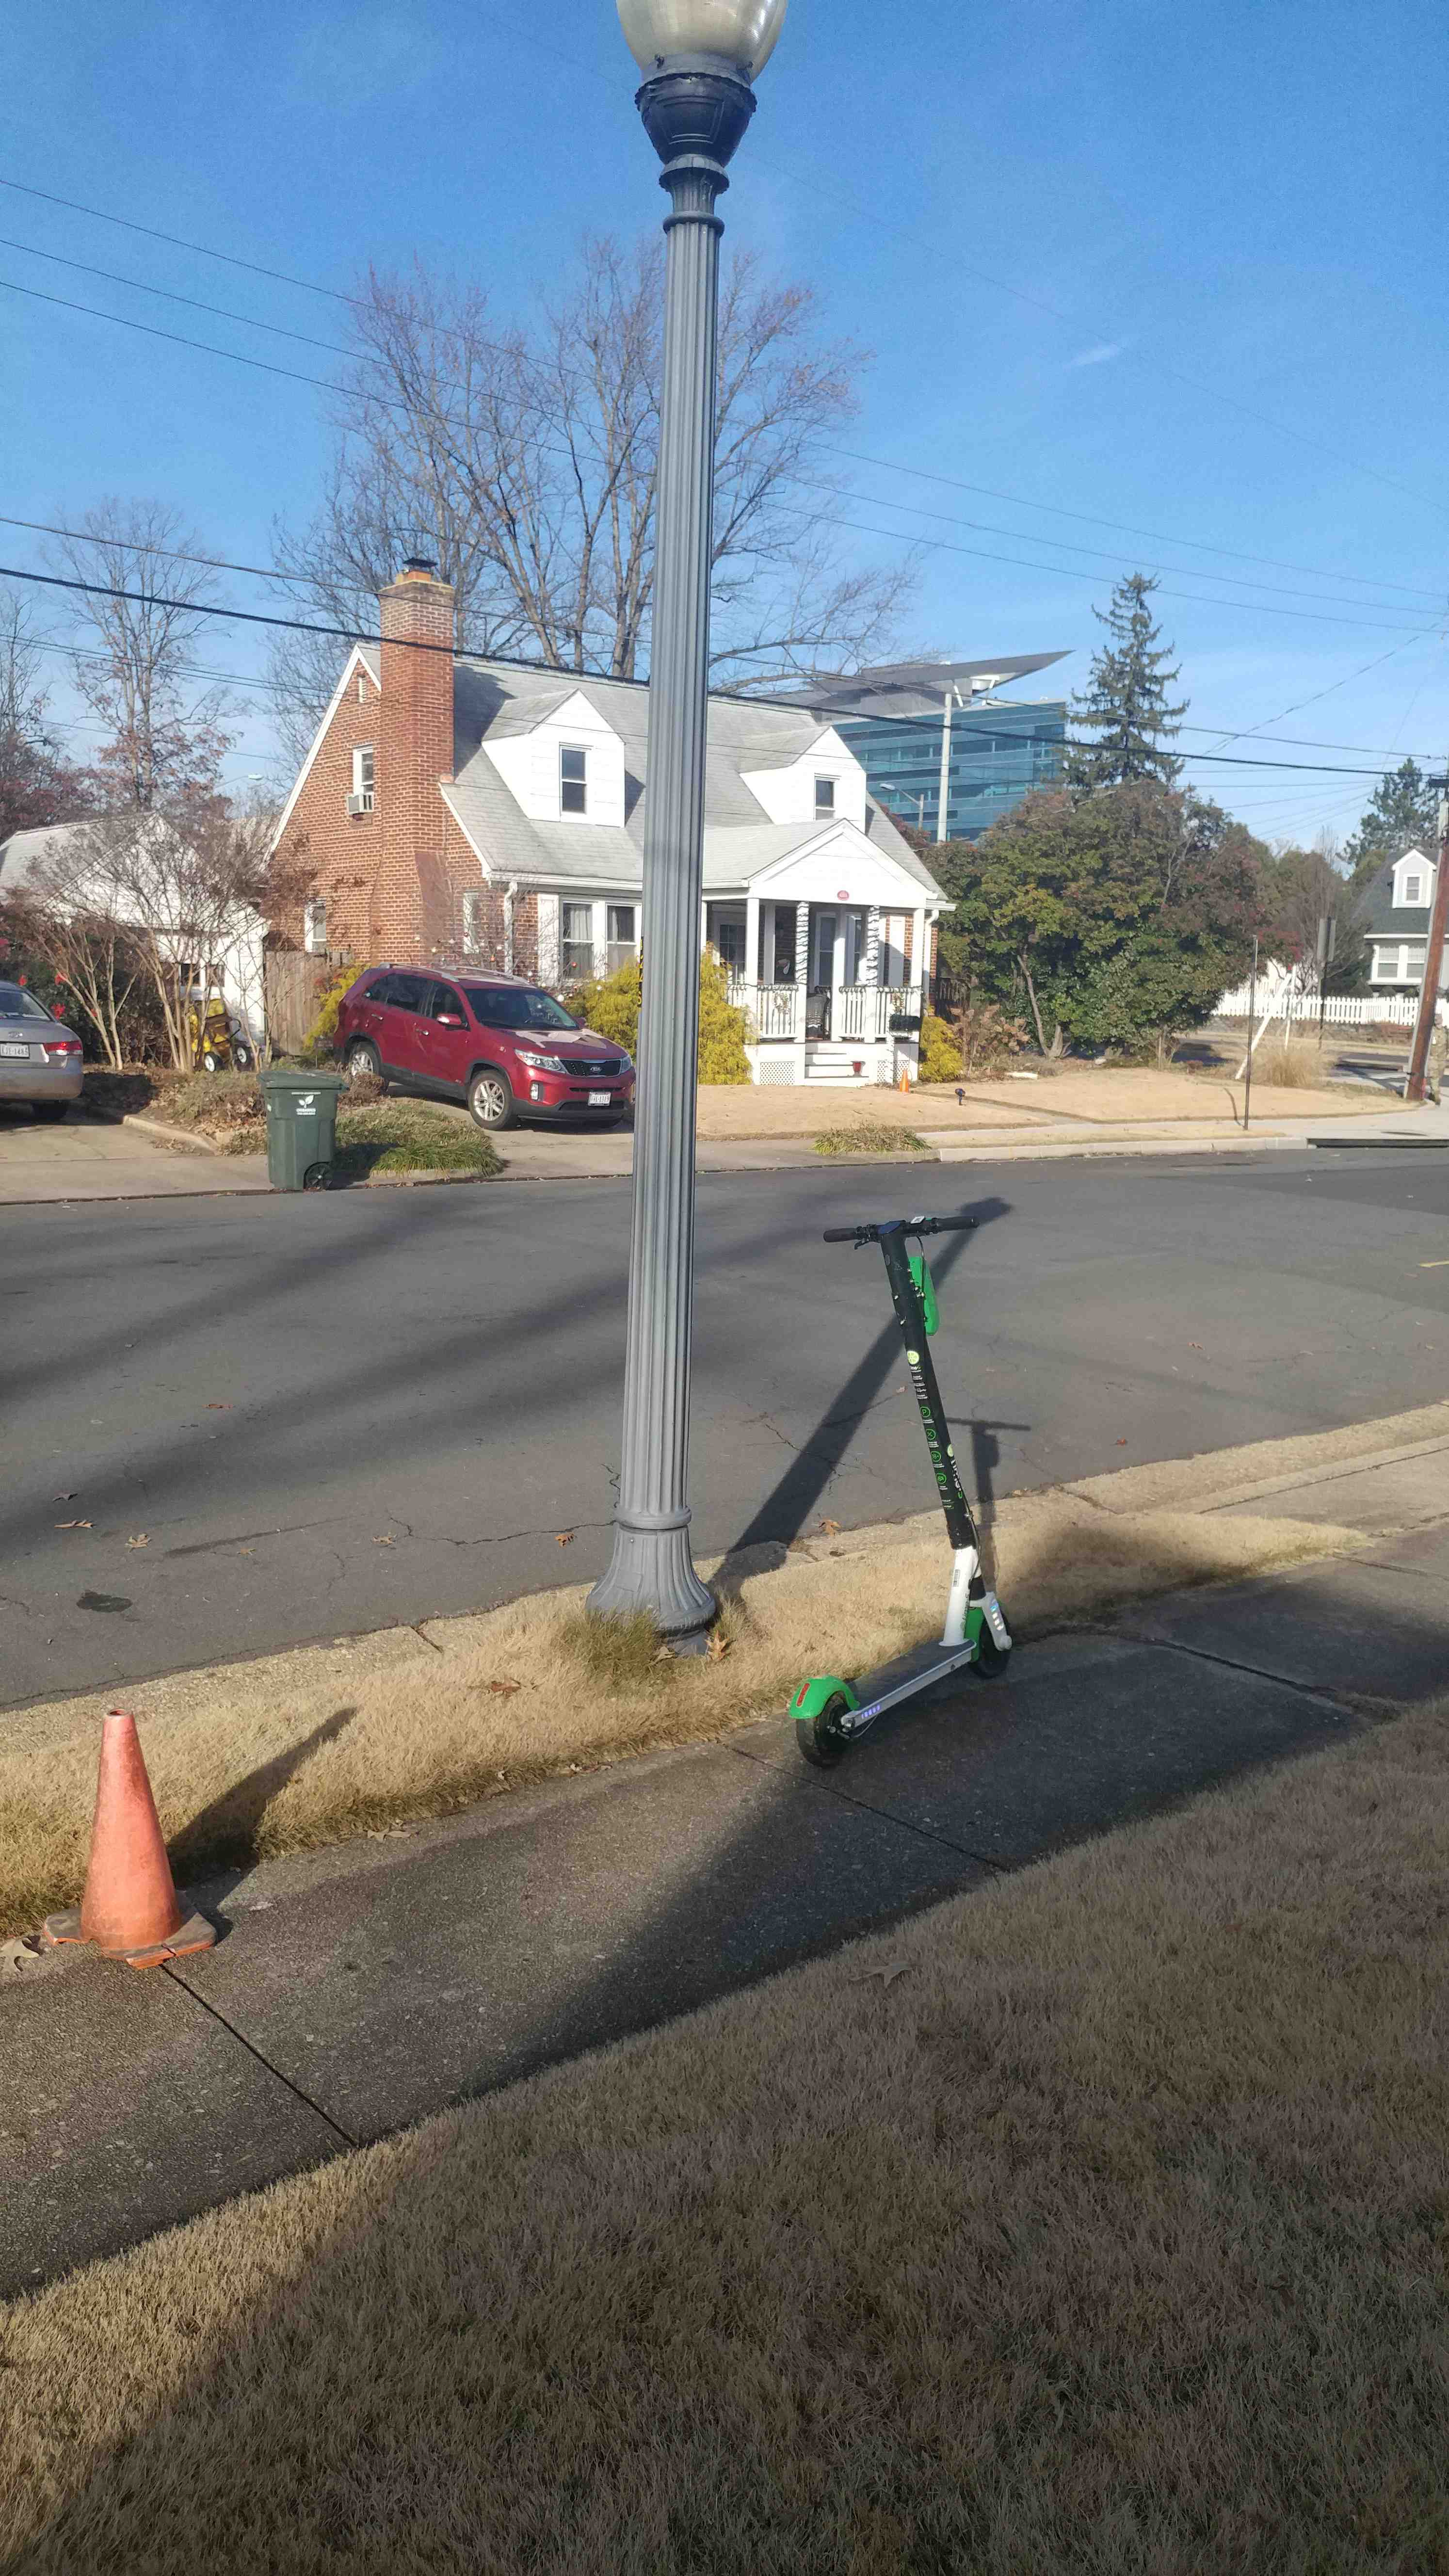scooter: (768, 1168, 1054, 1813)
